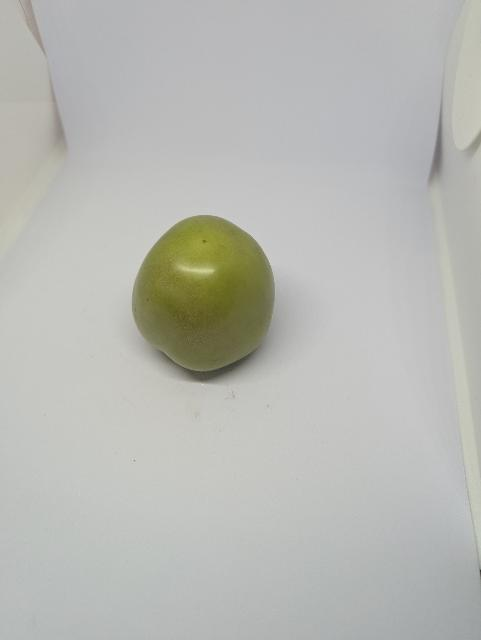green: (123, 205, 287, 374)
